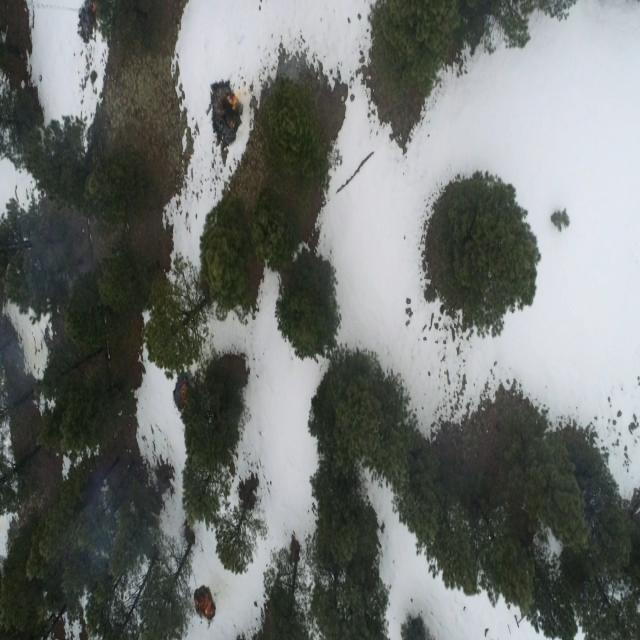Fire: (193, 586, 220, 628), (228, 86, 252, 112)
Smoke: (0, 182, 156, 600)
